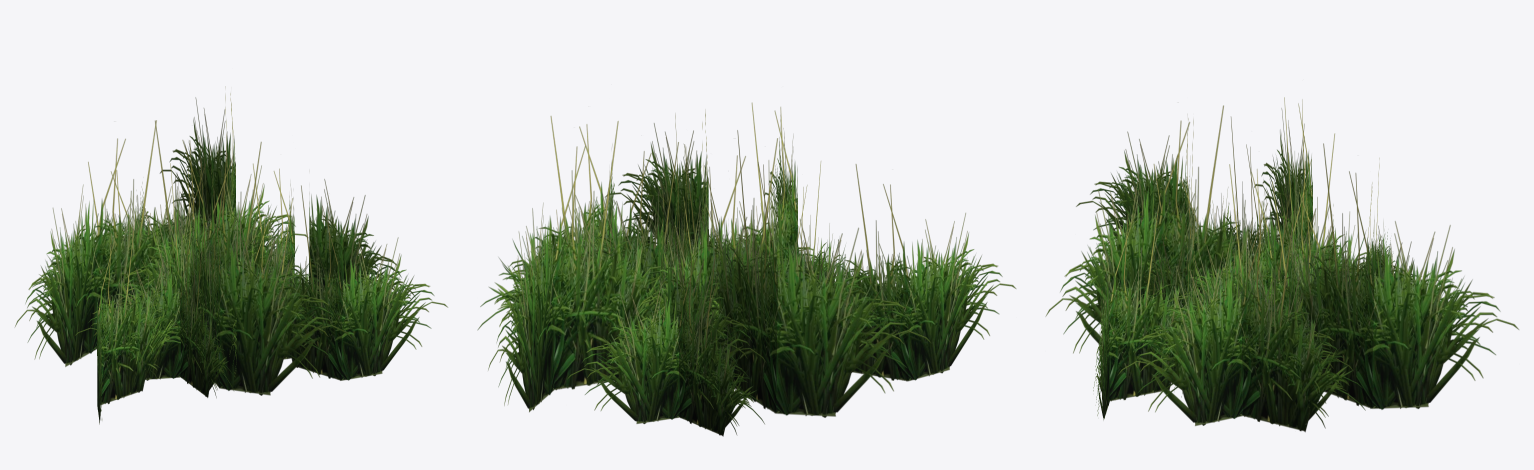
File: meadow-grass-clump.glb
The picture shows the model from 3 angles, left to right: view 1: azimuth 30°, elevation 25°; view 2: azimuth 150°, elevation 25°; view 3: azimuth 270°, elevation 25°; orthographic projection. The views are drawn at different scales.
Parts seen in each view (by area): view 1: MeadowGrassClumpGeometry; view 2: MeadowGrassClumpGeometry; view 3: MeadowGrassClumpGeometry.
Boxes of the visible parts, x1,y1,x2,y2 form: MeadowGrassClumpGeometry: (15, 86, 447, 424); MeadowGrassClumpGeometry: (477, 102, 1016, 436); MeadowGrassClumpGeometry: (1045, 97, 1518, 431).
Bounding box in the file's own units: 1.07 × 0.65 × 1.12.
Materials: 1 (1 with a texture image).
